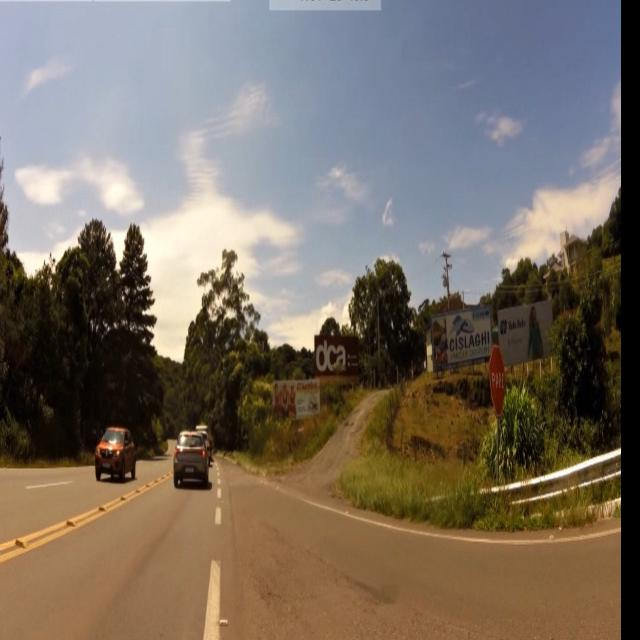R-1: (489, 342, 506, 420)
